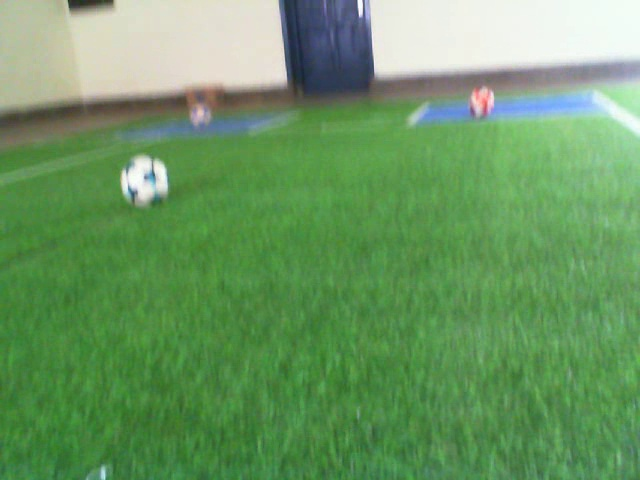ball: (118, 154, 173, 212), (468, 85, 496, 119), (188, 101, 214, 130)
